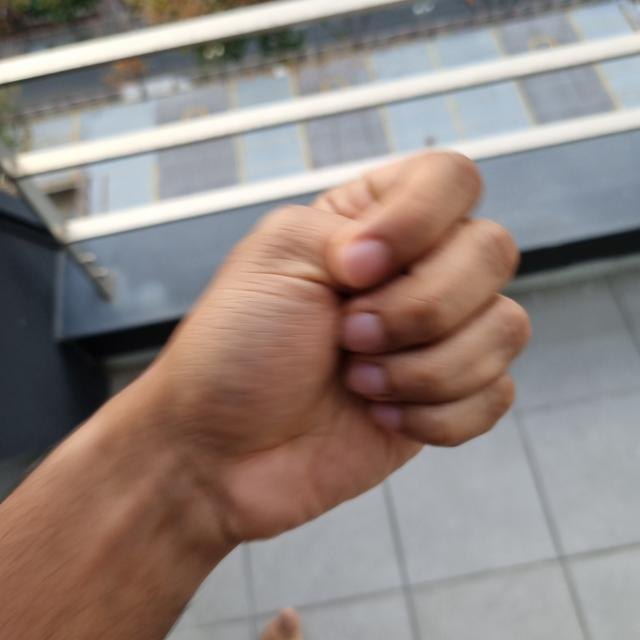Rock: (115, 146, 528, 543)
